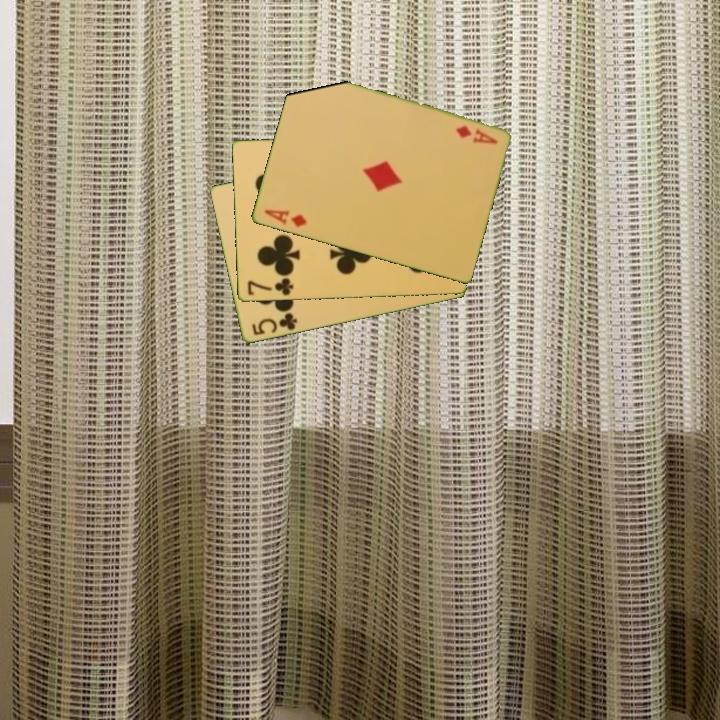5c: (248, 310, 300, 338)
7c: (244, 275, 295, 299)
Ad: (260, 206, 310, 230), (452, 122, 500, 147)
